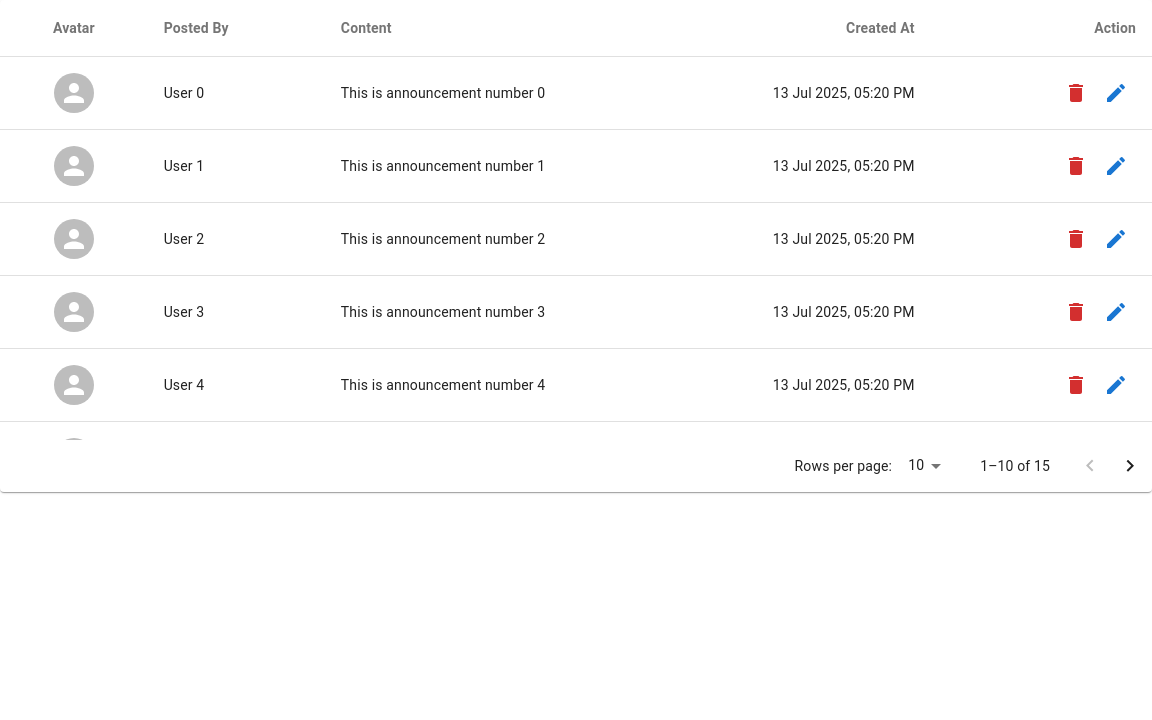
Test: TableContent Component › opens delete confirmation when Delete button is clicked
Click the button named "delete" in the row of "User 0": coordinates (1076, 93) [1056,73,1096,113]
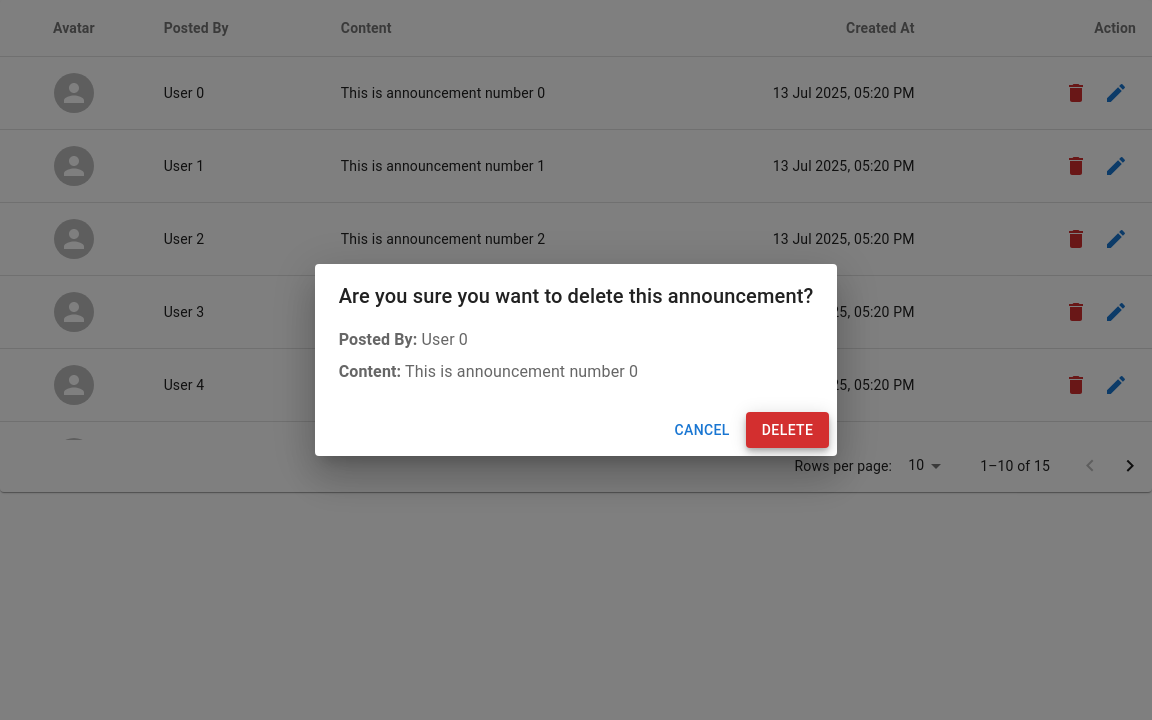
Expected: the heading "Are you sure you want to delete this announcement?" is shown, [339,284,813,308]
